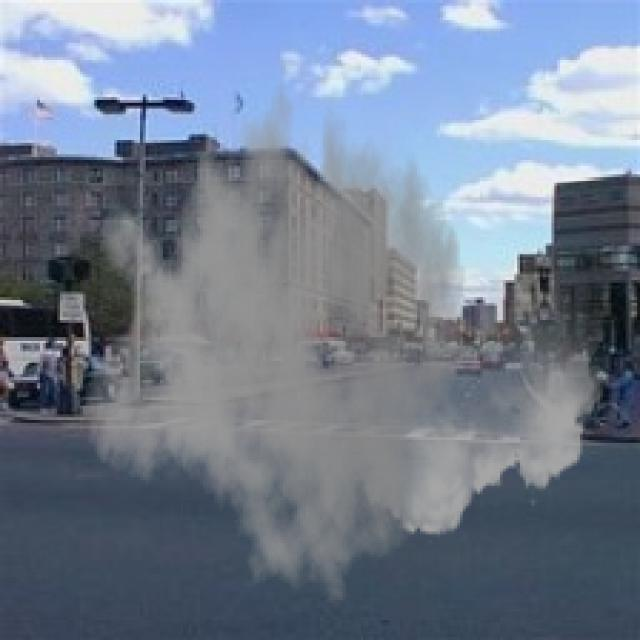Smoke: (83, 54, 612, 606)
